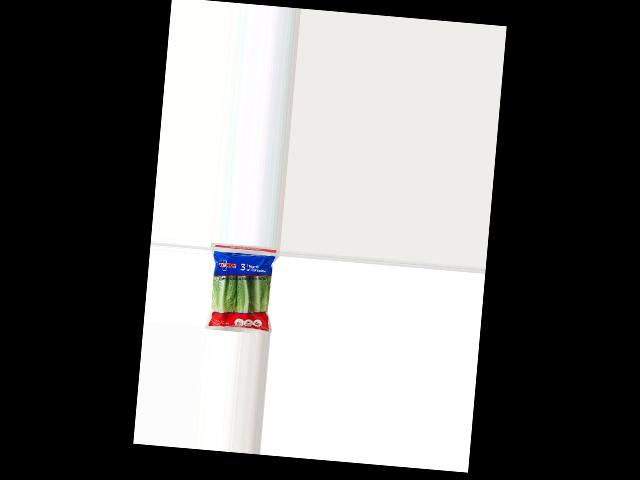lettuce: (203, 247, 276, 334)
